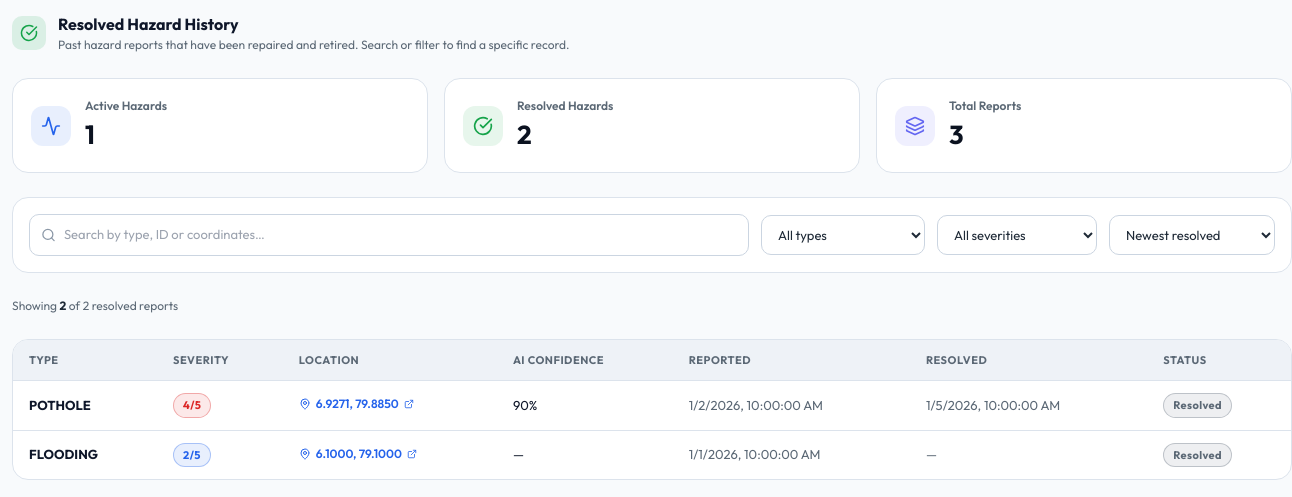
Scenario: ResolvedHazardsView › filters by hazard type
This screenshot has width=1292, height=497.
Select "POTHOLE" in the dropdown named "filter by hazard type" at (843, 235), box [761,215,925,255]
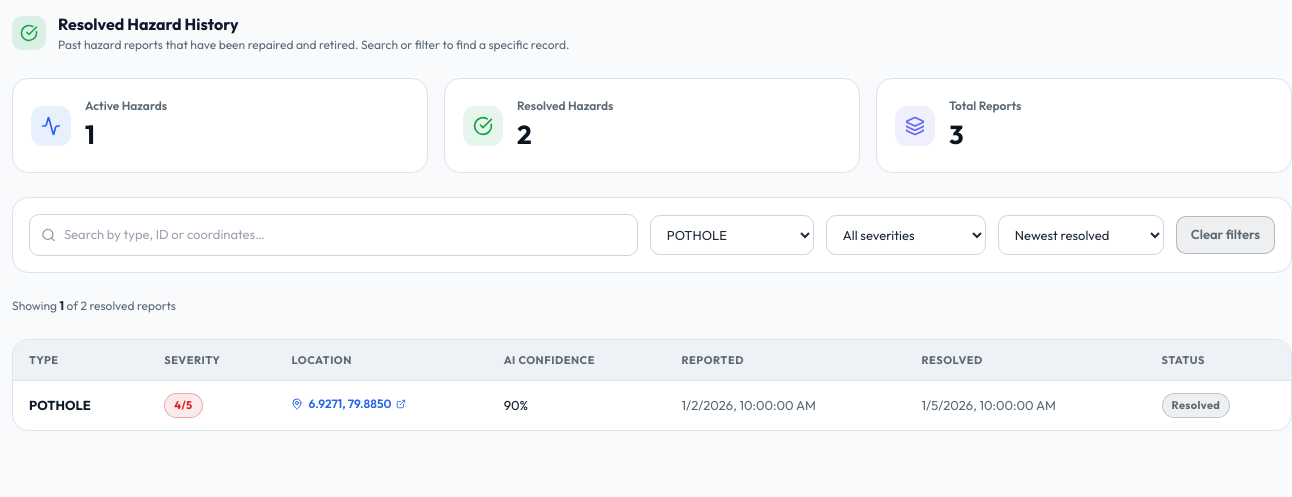
Expected: the text "POTHOLE" is shown, [29,396,91,412]
Result: the text "FLOODING" is gone
